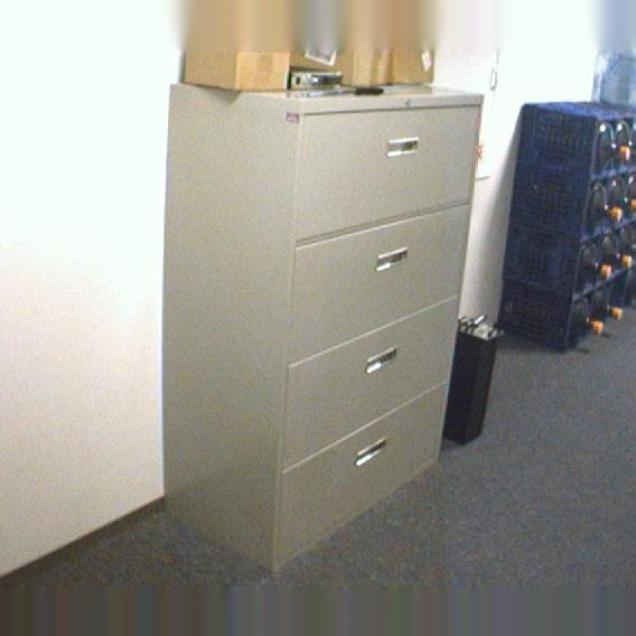Filing Cabinet: (160, 79, 484, 576)
